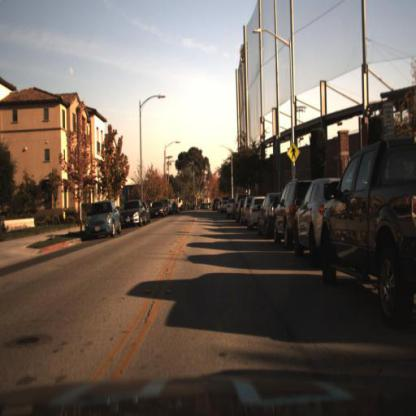car: (321, 136, 416, 331), (288, 175, 328, 265), (80, 194, 124, 250), (272, 174, 297, 256), (120, 195, 147, 233), (257, 192, 274, 238)
